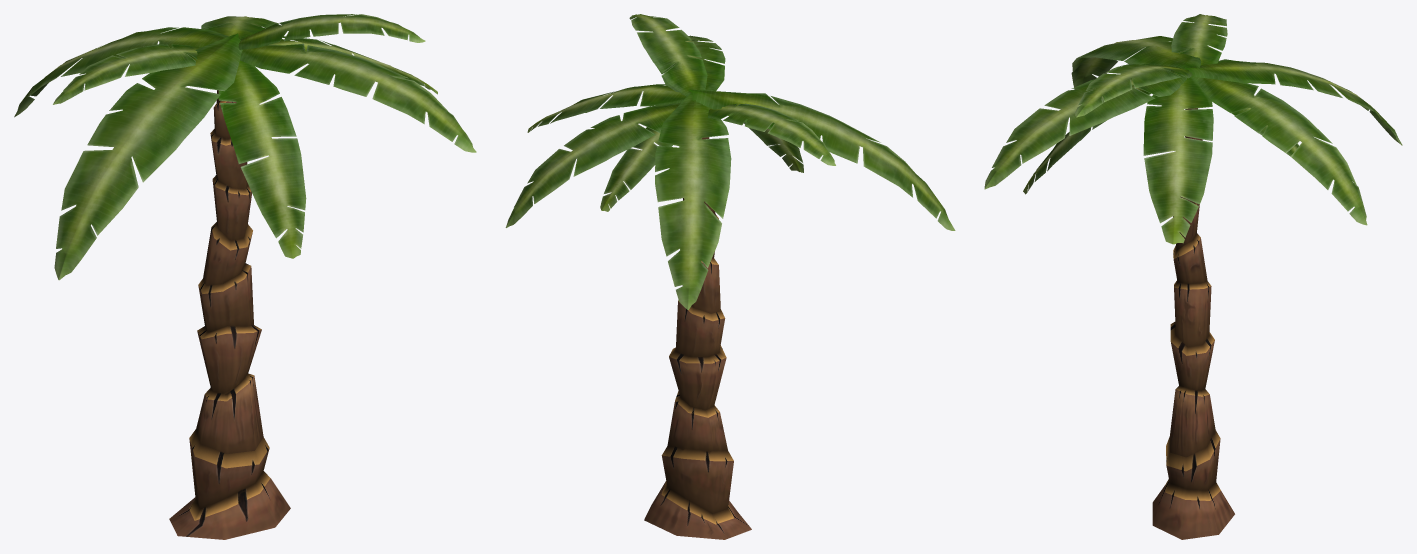
File: Palm Tree_001.fbx
The picture shows the model from 3 angles, left to right: view 1: azimuth 30°, elevation 25°; view 2: azimuth 150°, elevation 25°; view 3: azimuth 270°, elevation 25°; orthographic projection. The views are drawn at different scales.
Visible parts, largest first — view 1: Palm.005; view 2: Palm.005; view 3: Palm.005.
Part boxes in pixels (<box>): Palm.005: <box>14,14,476,539</box>; Palm.005: <box>505,14,955,539</box>; Palm.005: <box>984,14,1402,539</box>.
Bounding box in the file's own units: 226 × 254 × 203.
